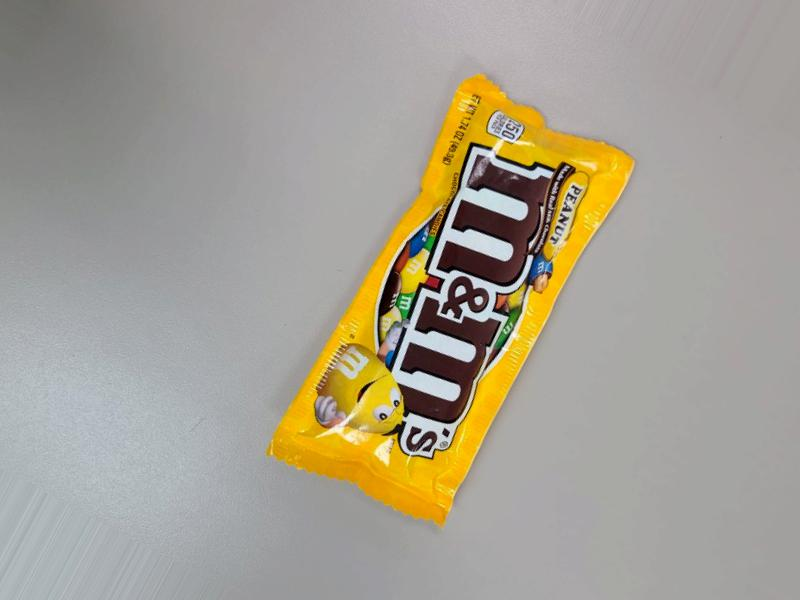m&m: (279, 75, 666, 560)
